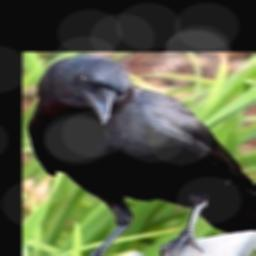Crow: (27, 56, 256, 256)
